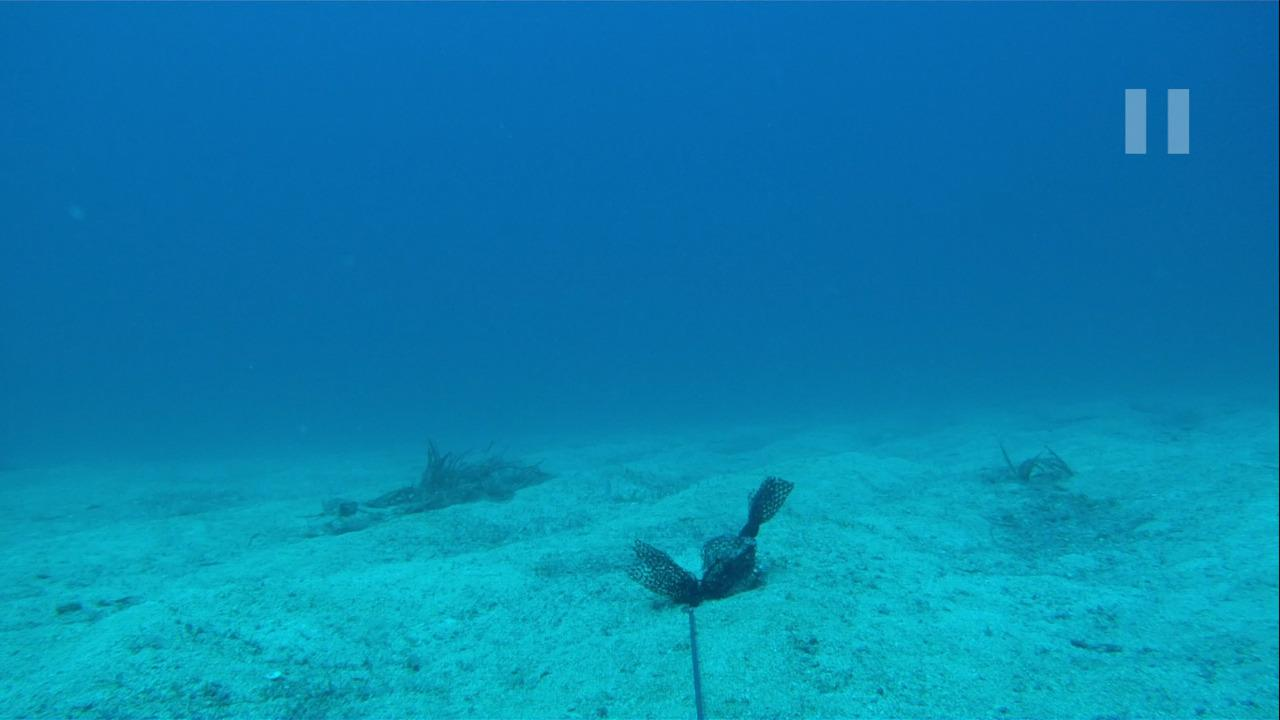dactylopterus: (294, 490, 379, 529)
